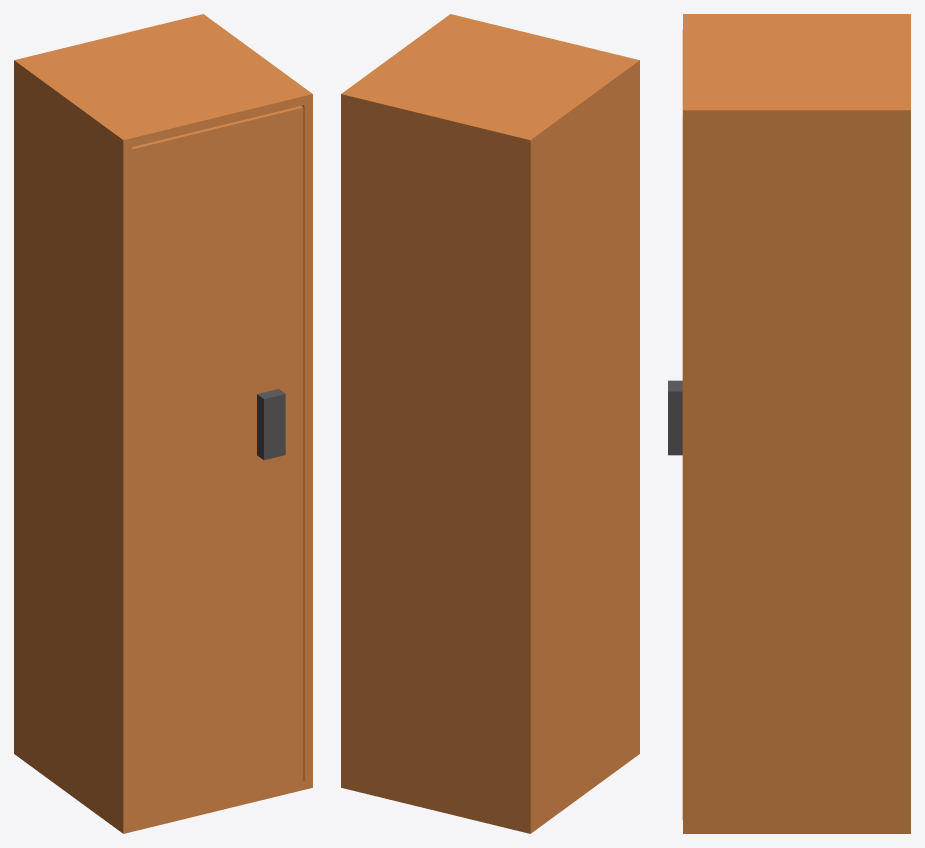
File: Broom_closet_closed.fbx
3 renders of one model, left to right at view 1: azimuth 30°, elevation 25°; view 2: azimuth 150°, elevation 25°; view 3: azimuth 270°, elevation 25°, orthographic. The views are drawn at different scales.
Visible parts, largest first — view 1: Door.006, Plane.001, Handle.006; view 2: Plane.001; view 3: Plane.001, Handle.006, Door.006.
Part boxes in pixels (<box>): Door.006: <box>131,106,303,823</box>; Plane.001: <box>14,14,312,833</box>; Handle.006: <box>257,389,285,460</box>; Plane.001: <box>341,14,639,833</box>; Plane.001: <box>683,14,910,833</box>; Handle.006: <box>668,380,682,455</box>; Door.006: <box>682,30,682,819</box>.
Bounding box in the file's own units: 2.2 × 7.7 × 2.34.
